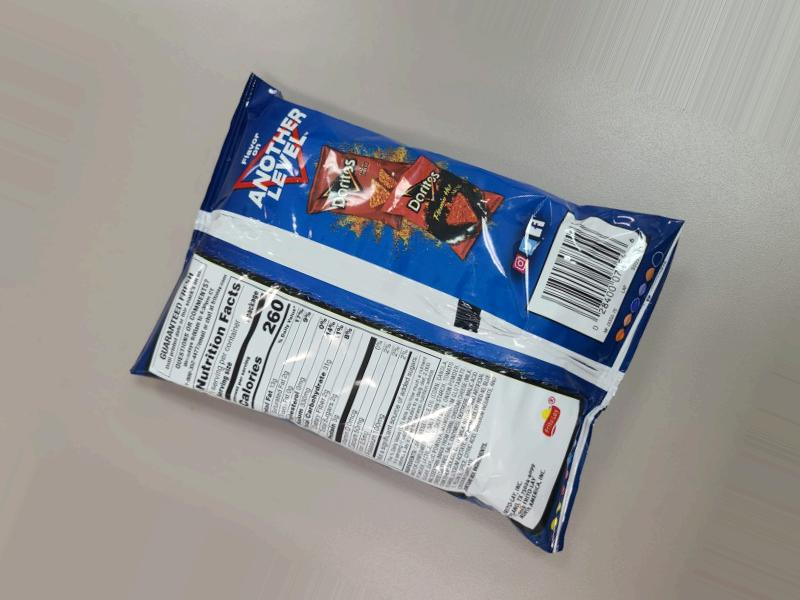doritos: (174, 77, 710, 552)
